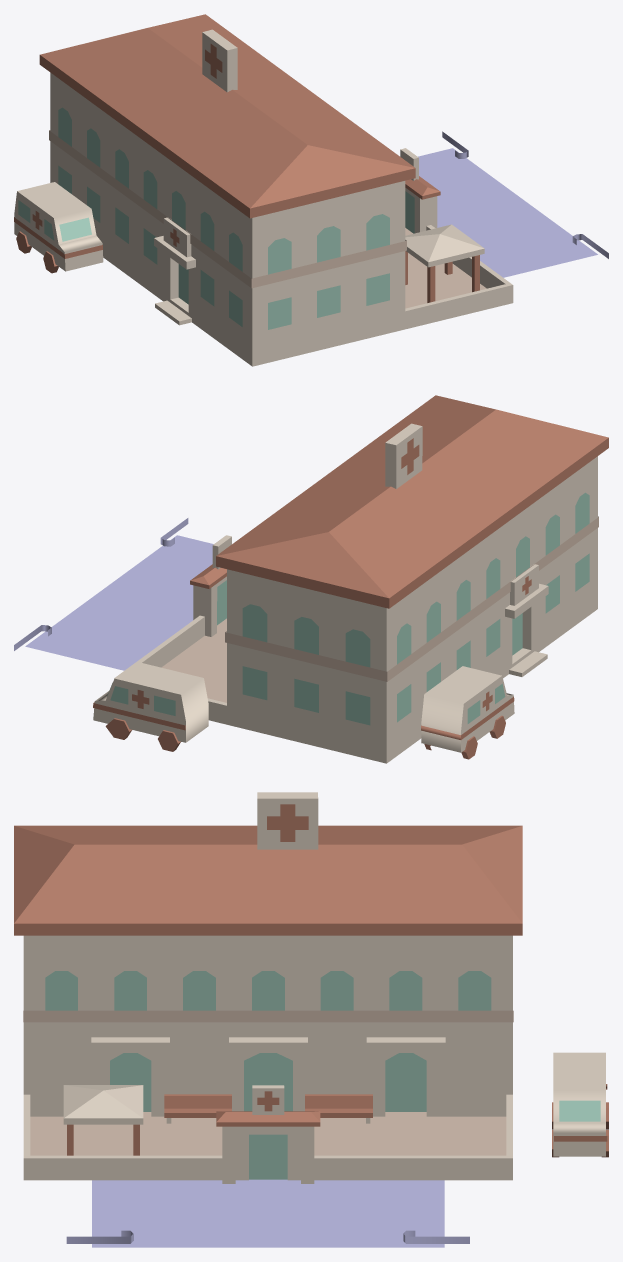
The model's file is sienaOspizio.fbx.
The picture shows the model from 3 angles, top to bottom: view 1: azimuth 30°, elevation 25°; view 2: azimuth 150°, elevation 25°; view 3: azimuth 270°, elevation 25°; orthographic projection. The views are drawn at different scales.
Parts seen in each view (by area): view 1: sienaOspizio_1, sienaOspizio_4, sienaOspizio_2, sienaOspizio_parking_5, sienaOspizio_3, sienaOspizio_guardrail_5; view 2: sienaOspizio_1, sienaOspizio_4, sienaOspizio_2, sienaOspizio_parking_5, sienaOspizio_3, sienaOspizio_guardrail_5; view 3: sienaOspizio_1, sienaOspizio_4, sienaOspizio_parking_5, sienaOspizio_3, sienaOspizio_2, sienaOspizio_guardrail_5.
Part boxes in pixels (x1,y1,x2,y2): sienaOspizio_1: [14, 29, 513, 366]; sienaOspizio_4: [14, 14, 479, 302]; sienaOspizio_2: [18, 107, 414, 329]; sienaOspizio_parking_5: [418, 148, 597, 277]; sienaOspizio_3: [49, 130, 486, 308]; sienaOspizio_guardrail_5: [442, 131, 608, 258]; sienaOspizio_1: [93, 423, 597, 763]; sienaOspizio_4: [93, 395, 608, 759]; sienaOspizio_2: [107, 492, 589, 725]; sienaOspizio_parking_5: [25, 535, 213, 670]; sienaOspizio_3: [161, 516, 598, 702]; sienaOspizio_guardrail_5: [14, 518, 188, 650]; sienaOspizio_1: [23, 792, 605, 1183]; sienaOspizio_4: [14, 804, 608, 1157]; sienaOspizio_parking_5: [92, 1179, 444, 1247]; sienaOspizio_3: [23, 1010, 513, 1155]; sienaOspizio_2: [45, 971, 600, 1179]; sienaOspizio_guardrail_5: [66, 1230, 469, 1243].
Bounding box in the file's own units: 29.75 × 15.11 × 29.51.
